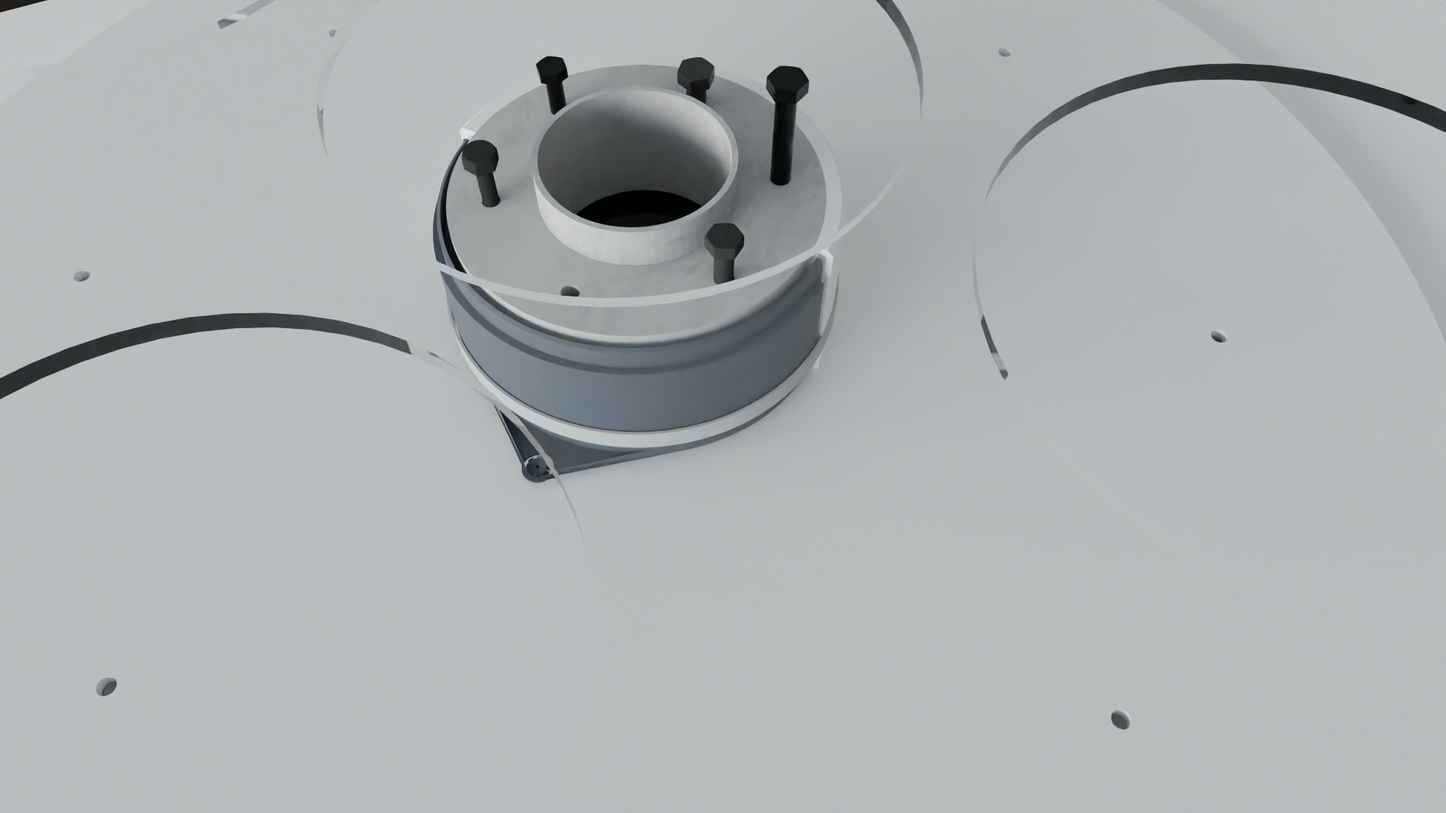bolt: (767, 65, 810, 93), (705, 223, 744, 250), (677, 57, 714, 82), (462, 140, 496, 166), (535, 56, 567, 77)
